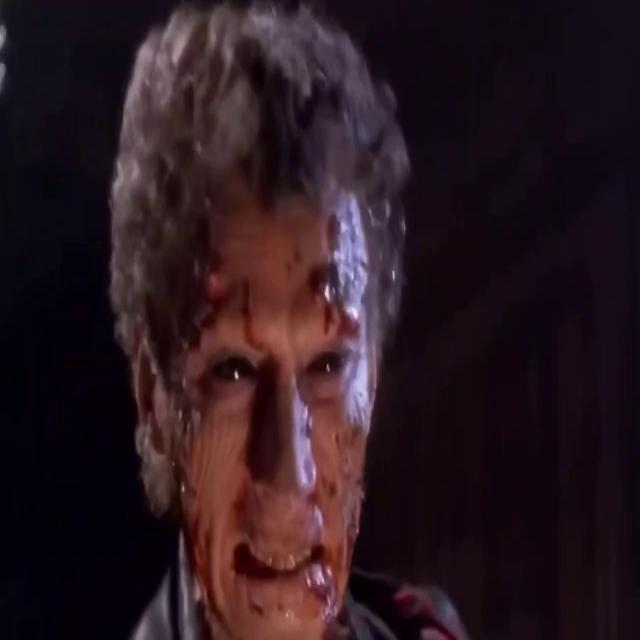flood: (317, 265, 379, 343)
